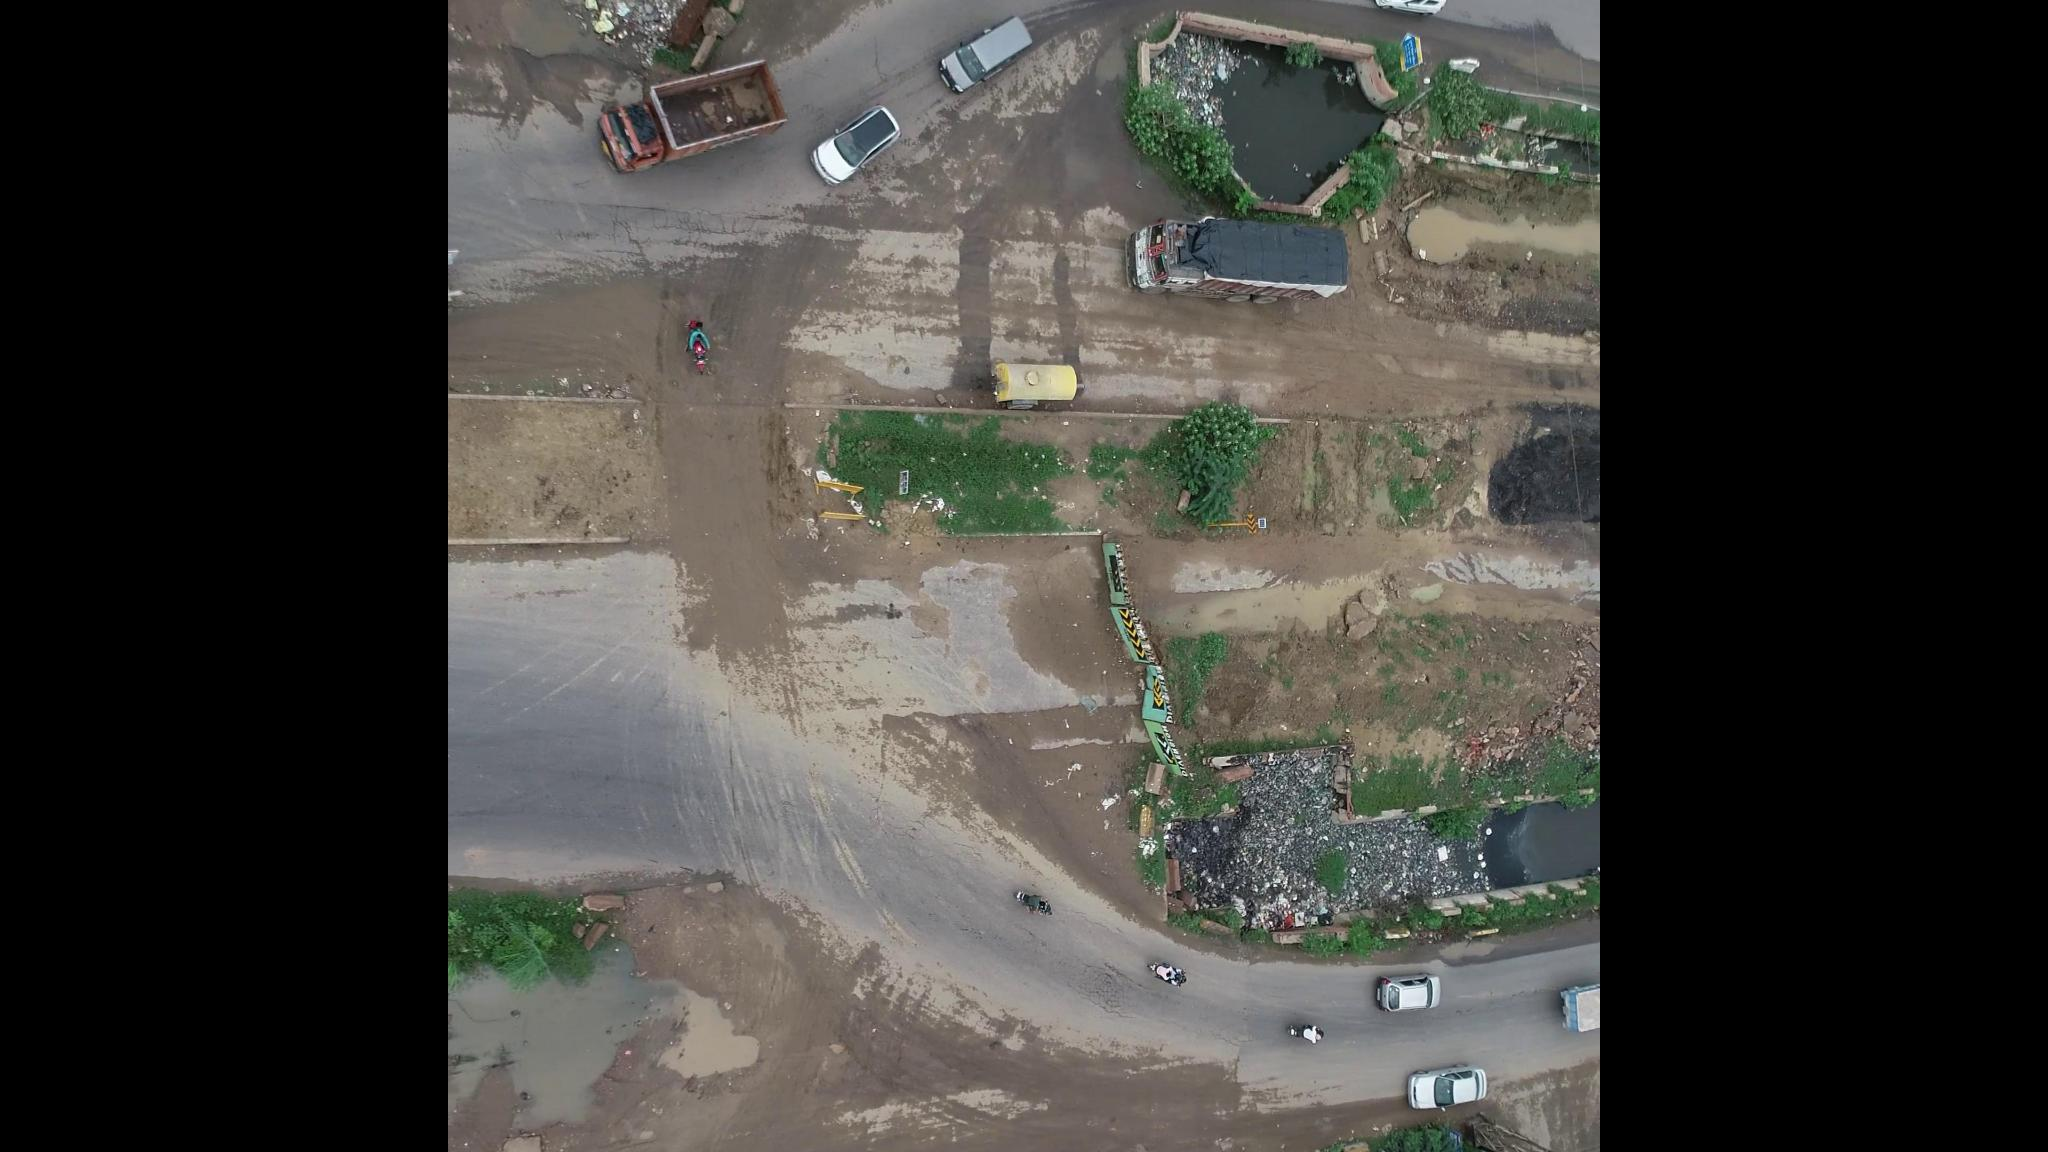Muddy_road: (454, 269, 675, 378)
Waterlogging: (467, 945, 778, 1152)
